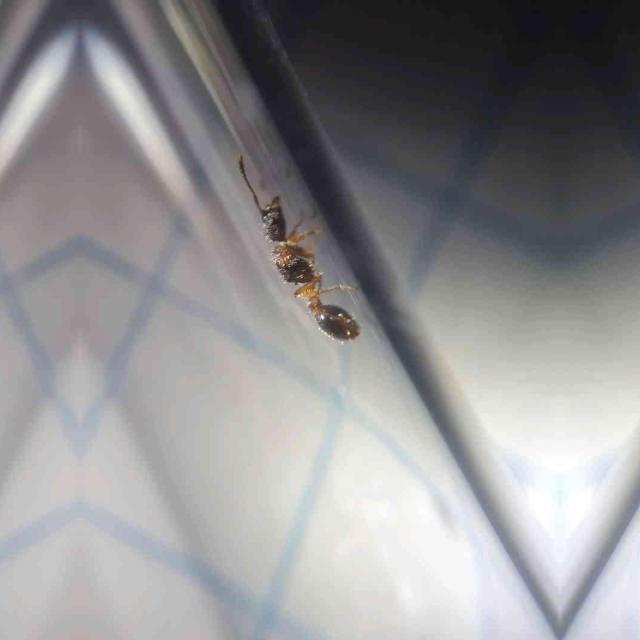Myrmica: (240, 172, 372, 344)
